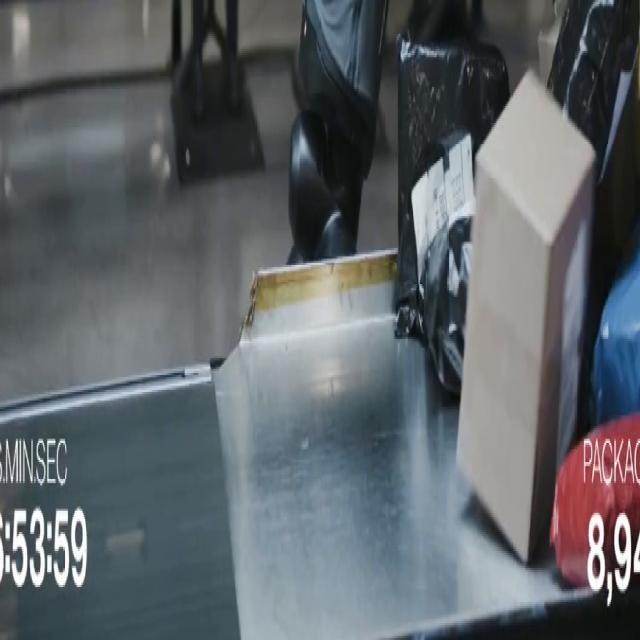package: (457, 73, 594, 561), (548, 0, 639, 436), (395, 37, 509, 336), (412, 132, 474, 394), (548, 0, 638, 180), (550, 414, 639, 587), (592, 229, 639, 423), (538, 0, 566, 82), (538, 15, 561, 82)
